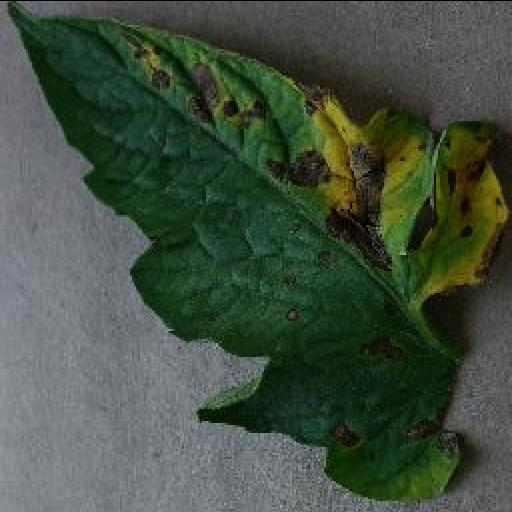disease_tomato: (8, 0, 512, 498)
